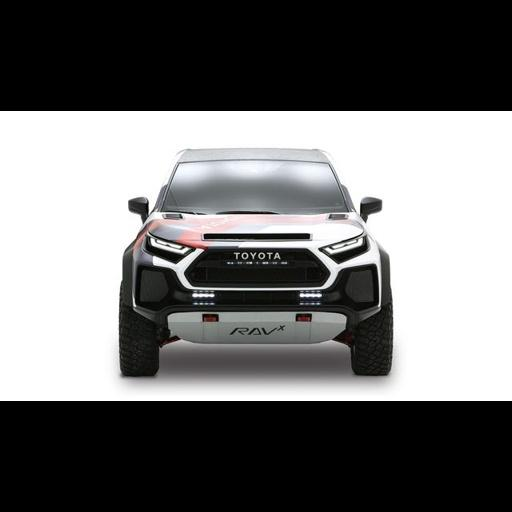suv: (120, 150, 389, 374)
